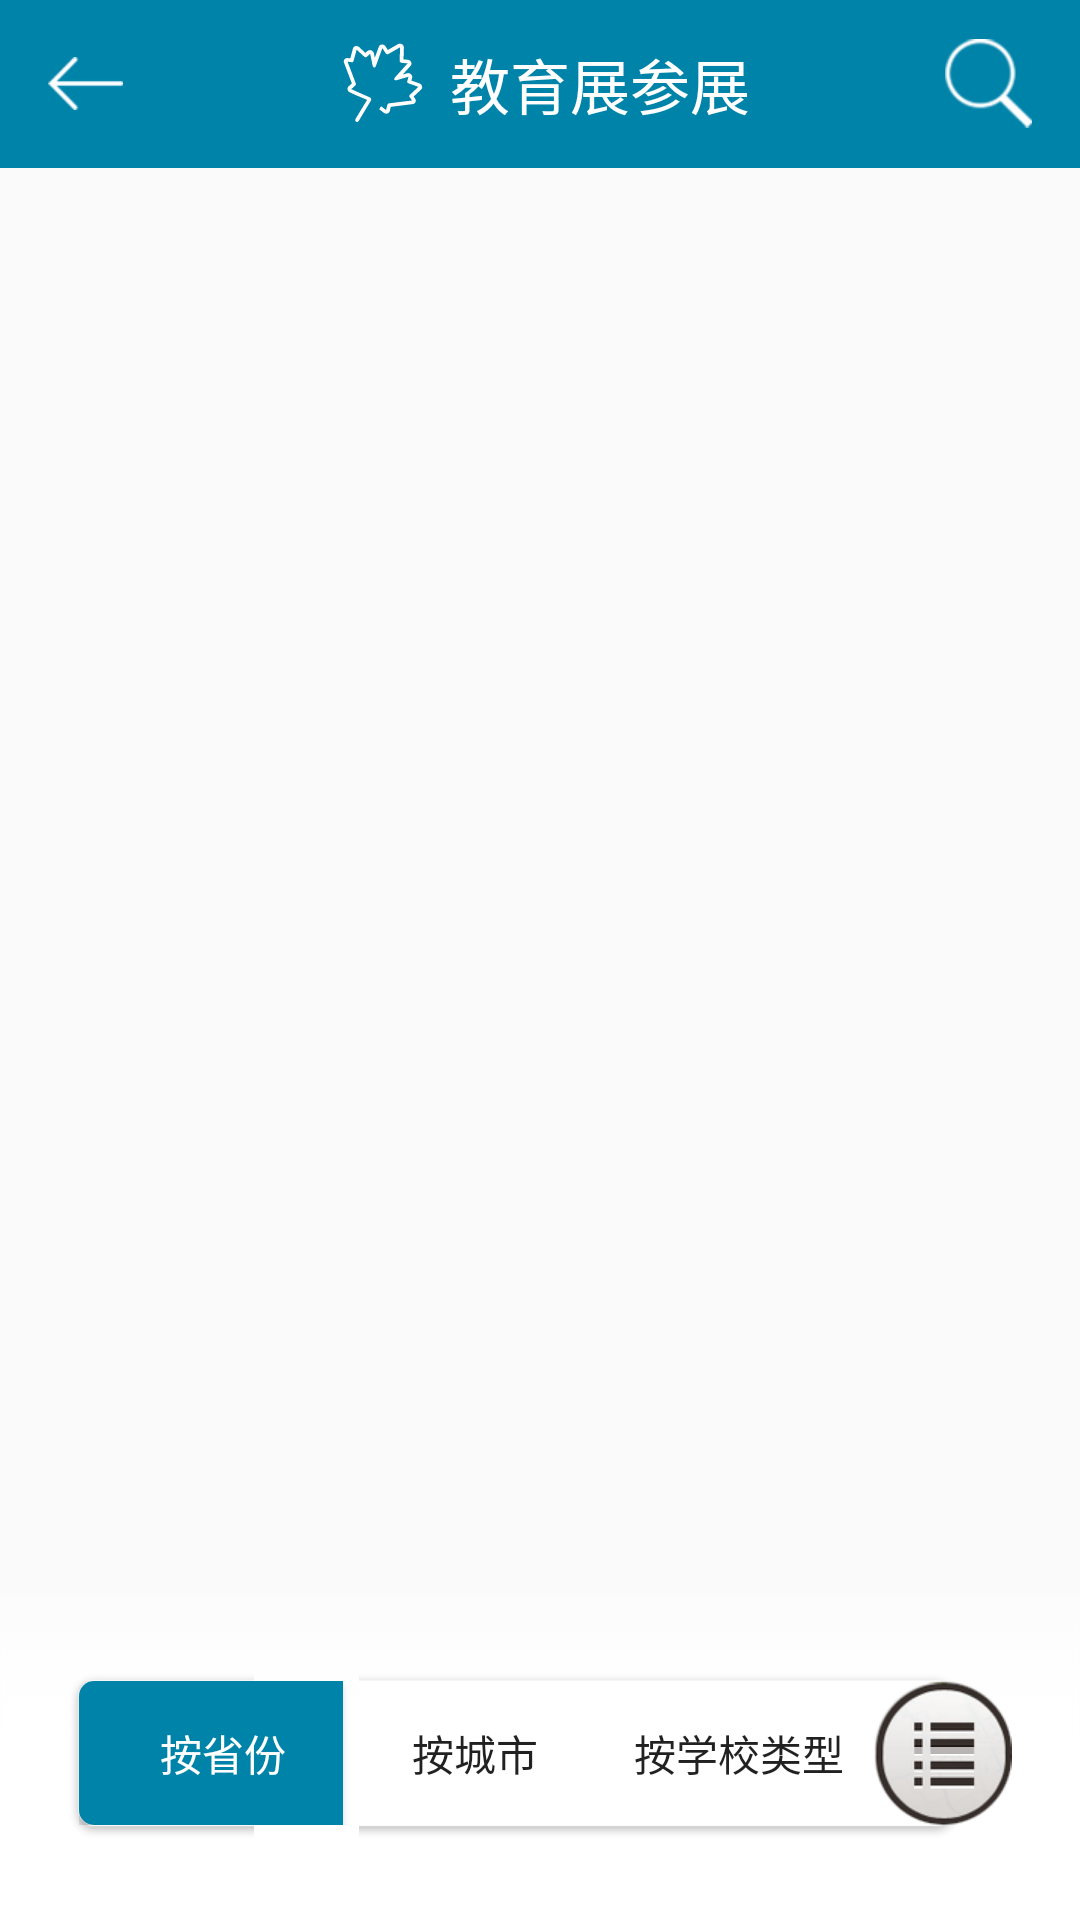

Named icons in this screenshot (1080×1920) and their bounding boxes, box(x1, y1, x2, y2):
back: box(48, 57, 123, 110)
leaf: box(343, 43, 423, 122)
search: box(945, 39, 1032, 128)
